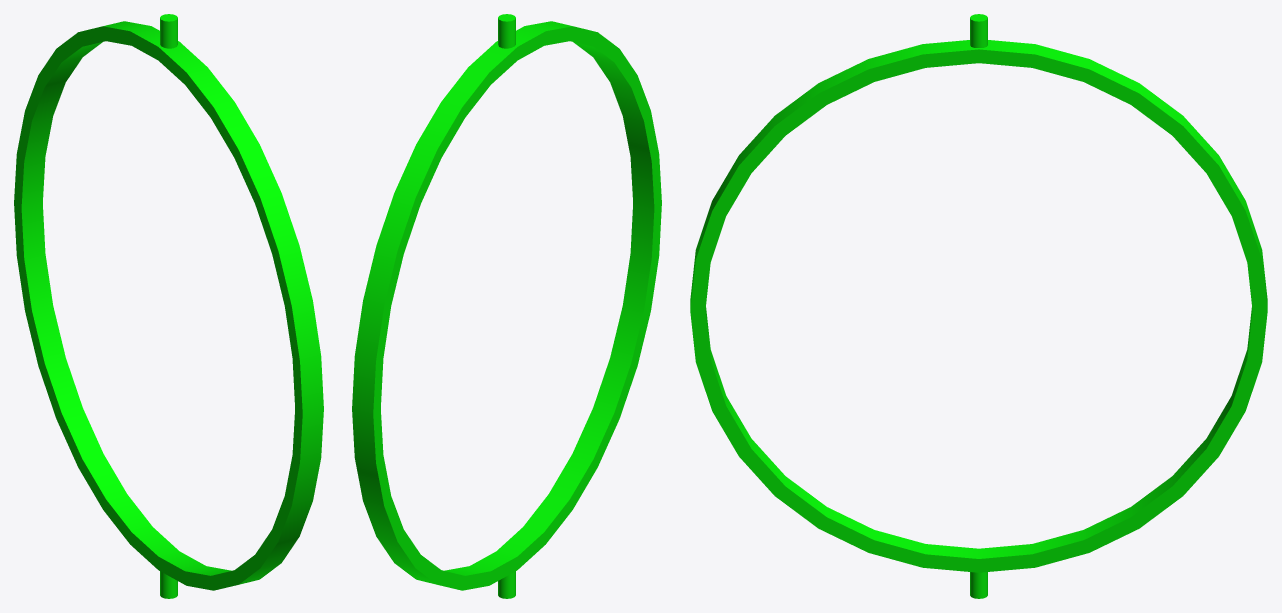
Rendered from gimbal_outer_y.glb.
3 views of the same model, side by side, from view 1: azimuth 30°, elevation 25°; view 2: azimuth 150°, elevation 25°; view 3: azimuth 270°, elevation 25° (orthographic).
Visible parts, largest first — view 1: GimbalGreen.001; view 2: GimbalGreen.001; view 3: GimbalGreen.001.
Part boxes in pixels (x1,y1,x2,y2): GimbalGreen.001: [14, 14, 323, 598]; GimbalGreen.001: [352, 14, 661, 598]; GimbalGreen.001: [690, 14, 1267, 598].
Size of the model in its own units: 0.3 by 7.79 by 7.06.
